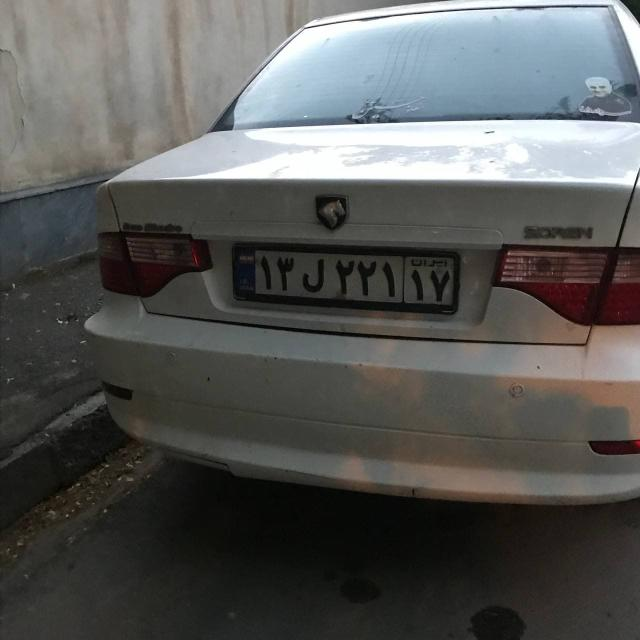Plates: (233, 248, 455, 306)
